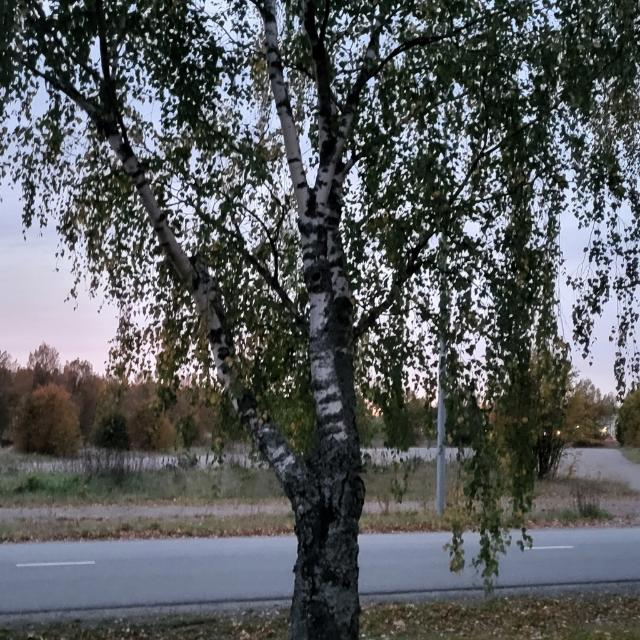birch: (152, 0, 400, 640)
